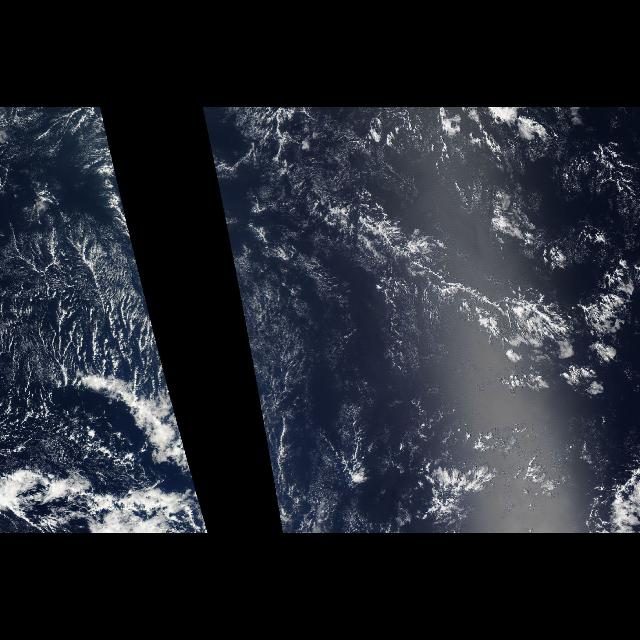Sugar: (216, 111, 484, 463), (0, 110, 170, 410)
